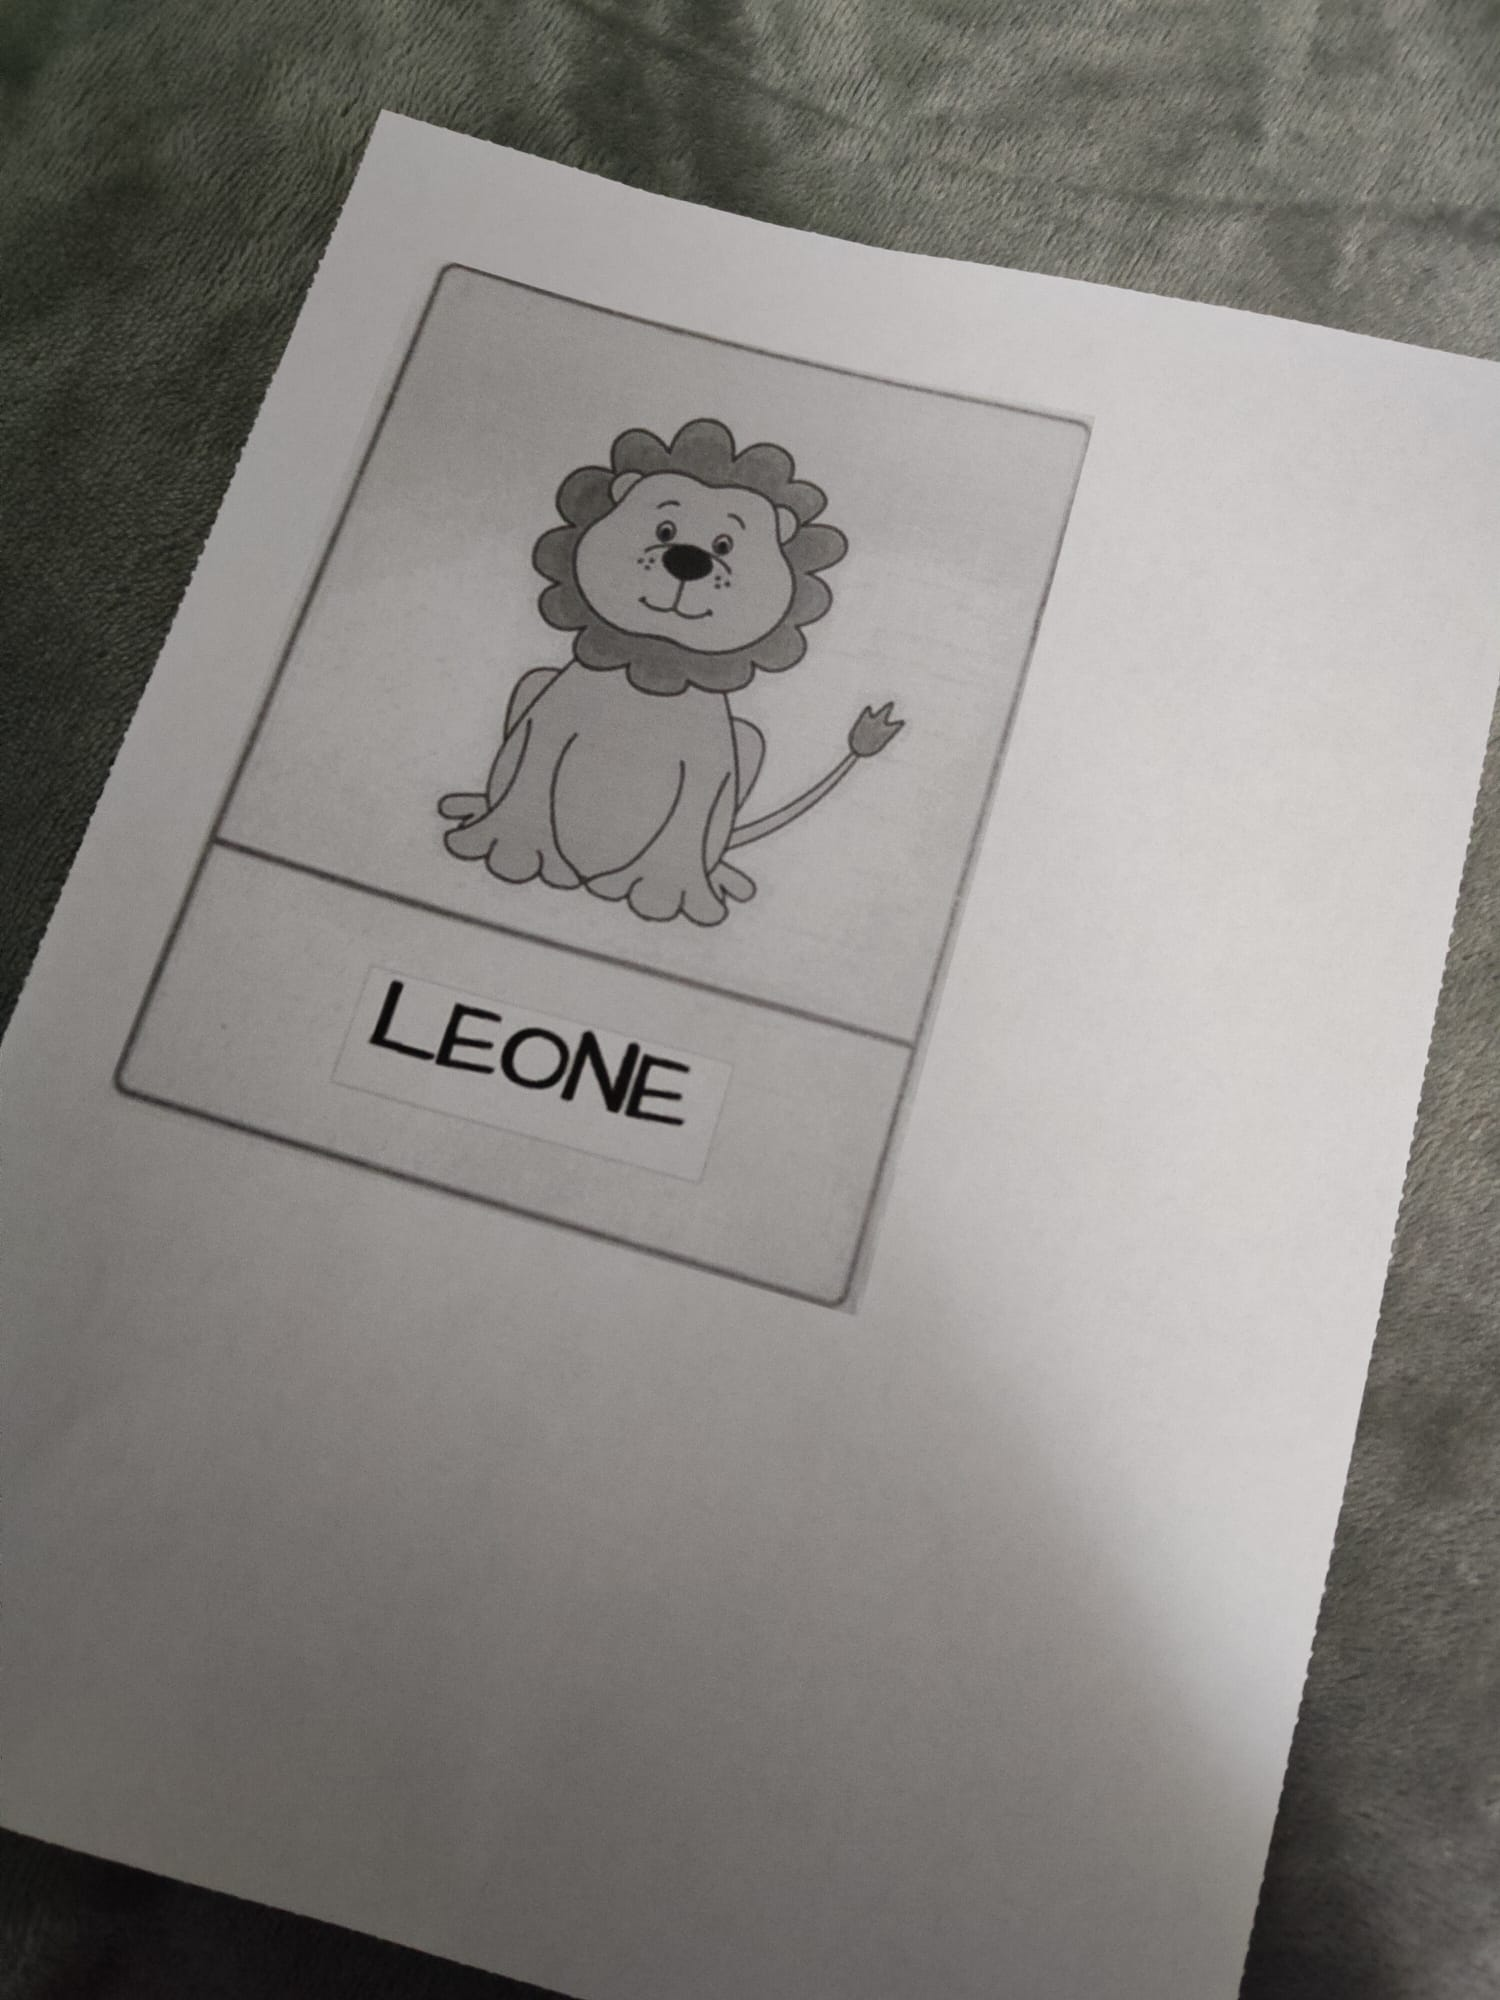leone: (308, 241, 1000, 1295)
